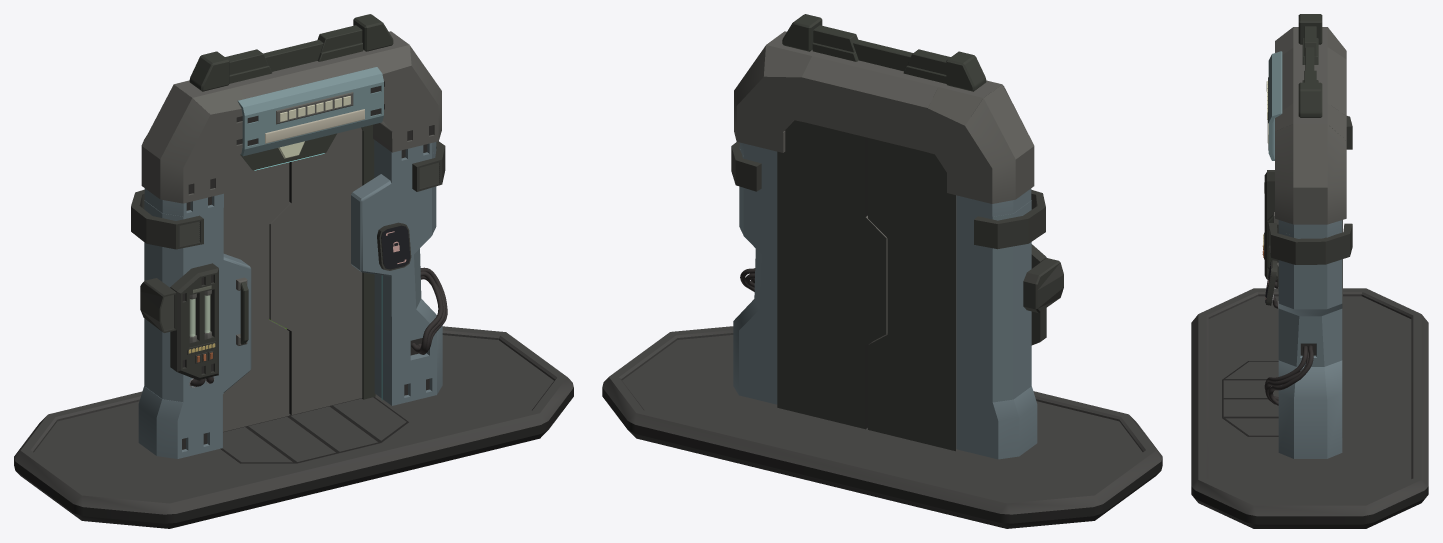
The model's file is DEtalization_02_SiFi_Gate.fbx.
The picture shows the model from 3 angles, left to right: view 1: azimuth 30°, elevation 25°; view 2: azimuth 150°, elevation 25°; view 3: azimuth 270°, elevation 25°; orthographic projection. The views are drawn at different scales.
Parts seen in each view (by area): view 1: pCube1, pCylinder27, polySurface102, polySurface96, polySurface103, pCube105, pCylinder16, polySurface83, polySurface55, polySurface26, polySurface25, upper_grill_02 (+10 smaller); view 2: pCube1, polySurface102, pCylinder27, polySurface96, polySurface103, upper_grill_02, pCube31, polySurface70, polySurface73, upper_grill_03, polySurface74, polySurface75 (+2 smaller); view 3: pCube1, pCylinder27, polySurface96, pCube105, upper_grill_03, pCylinder16, polySurface74, polySurface83, polySurface70, pCylinder19, pCube50, polySurface71 (+1 smaller).
Boxes of the visible parts, x1,y1,x2,y2 form: pCube1: (14,326,573,528); pCylinder27: (138,140,442,458); polySurface102: (269,127,362,415); polySurface96: (141,31,441,203); polySurface103: (223,155,289,431); pCube105: (220,397,408,463); pCylinder16: (237,67,383,156); polySurface83: (170,263,218,379); polySurface55: (240,124,375,399); polySurface26: (351,174,391,276); polySurface25: (223,254,251,392); upper_grill_02: (131,189,203,249); pCube1: (602,326,1162,528); polySurface102: (777,120,887,429); pCylinder27: (733,142,1037,459); polySurface96: (734,31,1034,203); polySurface103: (868,138,957,451); upper_grill_02: (974,189,1045,249); pCube31: (1023,258,1063,312); polySurface70: (946,51,986,91); polySurface73: (853,39,912,71); upper_grill_03: (731,142,761,191); polySurface74: (782,14,822,51); polySurface75: (813,25,857,52); pCube1: (1191,288,1428,528); pCylinder27: (1278,220,1342,458); polySurface96: (1275,27,1346,224); pCube105: (1222,361,1278,436); upper_grill_03: (1268,223,1352,264); pCylinder16: (1268,51,1282,160); polySurface74: (1298,82,1322,117); polySurface83: (1264,172,1278,279); polySurface70: (1298,14,1322,44); pCylinder19: (1268,345,1313,405); pCube50: (1265,260,1277,305); polySurface71: (1304,26,1316,56).
Size of the model in its own units: 13.87 by 10.64 by 6.23.
